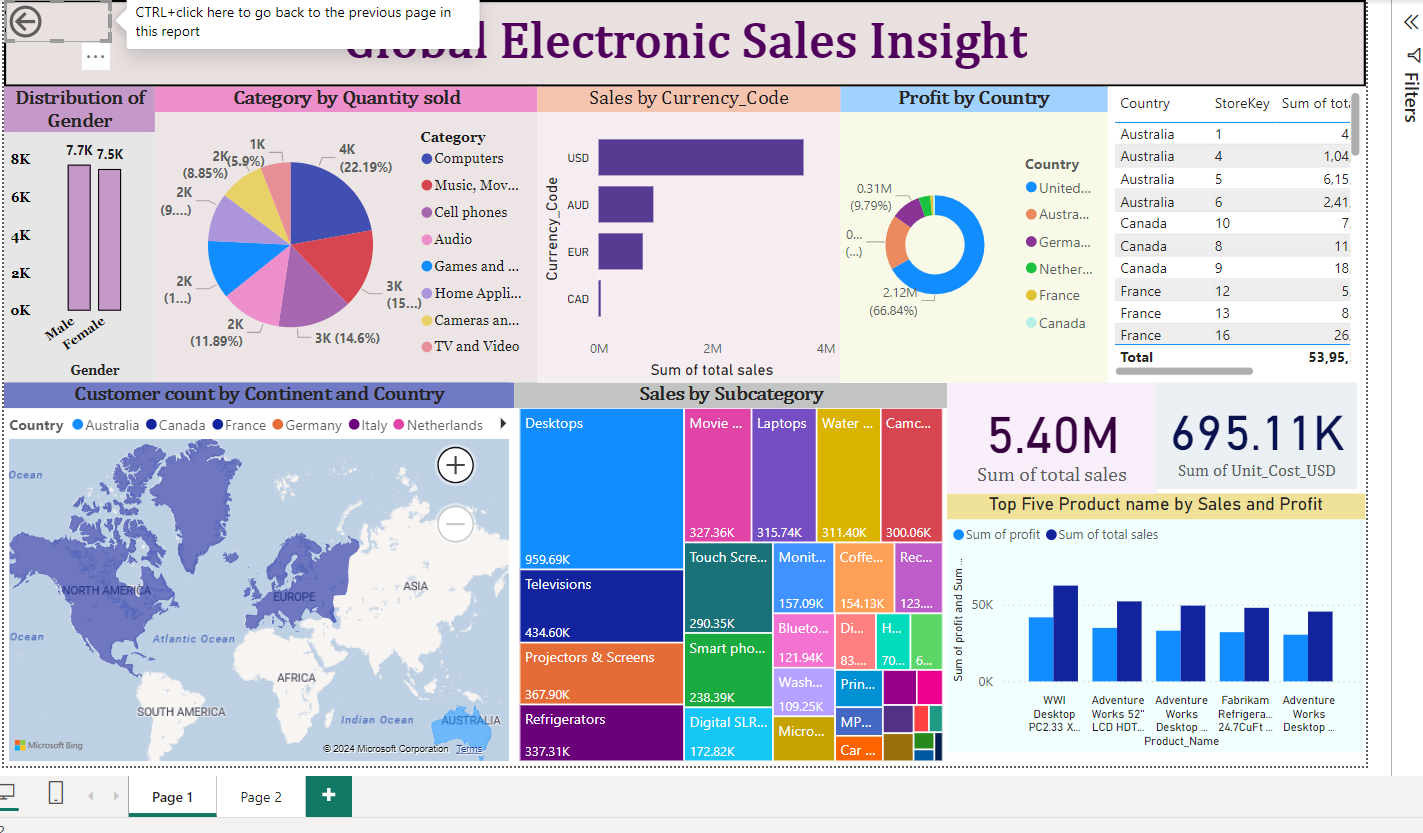

What the dashboard file says about the page in this screenshot:
{"tool":"powerbi","page":{"name":"Page 1","canvas":[1280,720],"ordinal":0},"visuals":[{"type":"columnChart","title":"Distribution of Gender  ","fields":{"Category":["cleaned_customers.Gender"],"Y":["cleaned_customers.count_gender"]},"box":[0,81.4,141.9,278.2],"z":0},{"type":"pieChart","title":" Category by Quantity sold","fields":{"Category":["merged_data1.Category"],"Y":["Sum(merged_data1.Quantity)"]},"box":[141.9,81.4,359.6,278.2],"z":1000},{"type":"treemap","title":"Sales by Subcategory","fields":{"Group":["merged_data1.Subcategory"],"Values":["Sum(merged_data1.total sales)"]},"box":[479.1,359.6,407.6,360.8],"z":2000},{"type":"filledMap","title":"Customer count by Continent and Country","fields":{"Category":["cleaned_customers.Continent"],"Series":["cleaned_customers.Country"]},"box":[0,359.6,479.5,360.7],"z":3000},{"type":"donutChart","title":"Profit by Country","fields":{"Category":["merged_data1.Country"],"Y":["Sum(merged_data1.profit)"]},"box":[785.7,81.3,252.5,278.3],"z":4000},{"type":"barChart","title":" Sales by Currency_Code","fields":{"Category":["merged_data1.Currency_Code"],"Y":["Sum(merged_data1.total sales)"]},"box":[501.2,81.3,284.5,278.3],"z":5000},{"type":"shape","box":[0,0,1280.2,81.4],"z":6000},{"type":"actionButton","box":[0,0,100,40],"z":7000},{"type":"clusteredColumnChart","title":"Top Five Product name by Sales and Profit","fields":{"Y":["Sum(merged_data1.profit)","Sum(merged_data1.total sales)"],"Category":["merged_data1.Product_Name"]},"box":[886.7,464.3,392.9,243.8],"z":8000},{"type":"tableEx","fields":{"Values":["merged_data1.Country","merged_data1.StoreKey","Sum(merged_data1.total sales)","Sum(merged_data1.Quantity)"]},"box":[1038.2,81.3,241.4,277.1],"z":9000},{"type":"card","fields":{"Values":["Sum(merged_data1.total sales)"]},"box":[886.7,359.6,197.1,104.7],"z":10000},{"type":"card","fields":{"Values":["Sum(merged_data1.Unit_Cost_USD)"]},"box":[1083.3,359.6,189.2,100.1],"z":11000}]}

Visuals, with their boxes in screenshot pixels (x1, y1, x2, y2):
"Distribution of Gender  " columnChart: left=7, top=86, right=157, bottom=380
" Category by Quantity sold" pieChart: left=157, top=86, right=538, bottom=380
"Sales by Subcategory" treemap: left=514, top=380, right=945, bottom=762
"Customer count by Continent and Country" filledMap: left=7, top=380, right=514, bottom=762
"Profit by Country" donutChart: left=838, top=86, right=1105, bottom=380
" Sales by Currency_Code" barChart: left=537, top=86, right=838, bottom=380
shape: left=7, top=0, right=1361, bottom=86
actionButton: left=7, top=0, right=113, bottom=42
"Top Five Product name by Sales and Profit" clusteredColumnChart: left=945, top=491, right=1361, bottom=749
tableEx - merged_data1.Country x merged_data1.StoreKey: left=1105, top=86, right=1361, bottom=379
card - Sum(merged_data1.total sales): left=945, top=380, right=1154, bottom=491
card - Sum(merged_data1.Unit_Cost_USD): left=1153, top=380, right=1353, bottom=486
